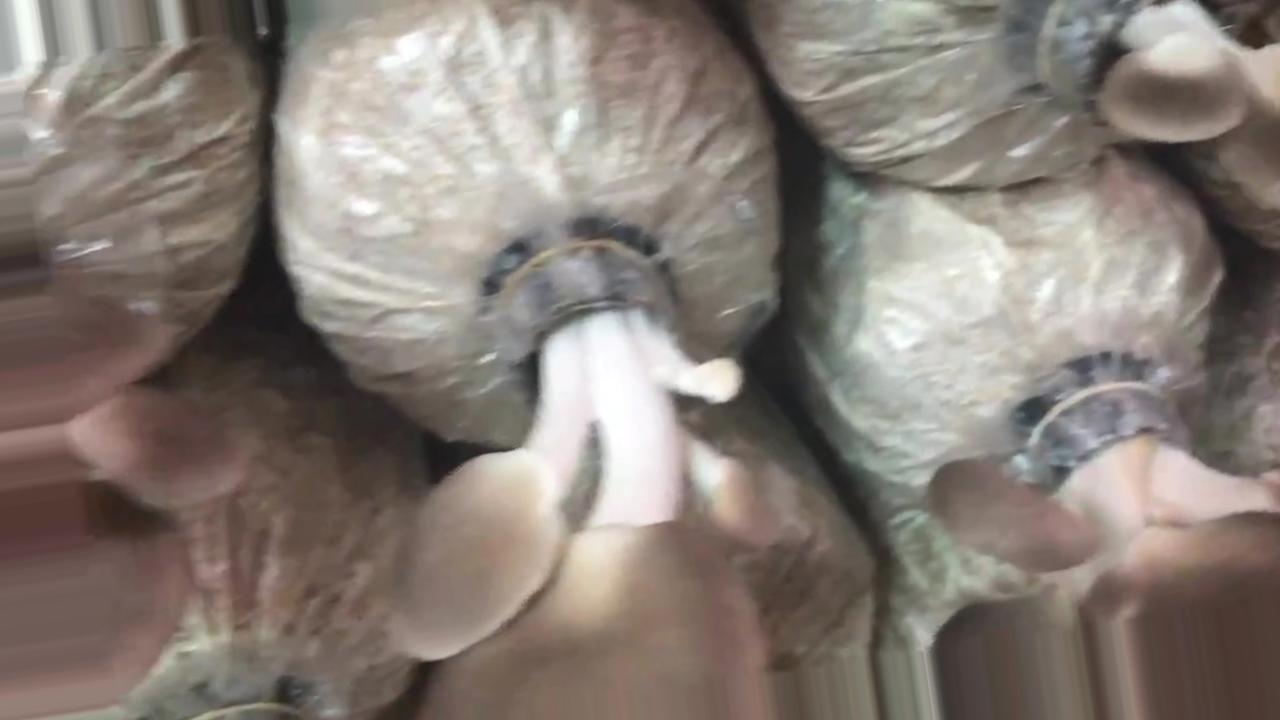nam: (385, 239, 772, 720), (930, 387, 1280, 718), (1, 271, 249, 720), (1043, 2, 1280, 219)
